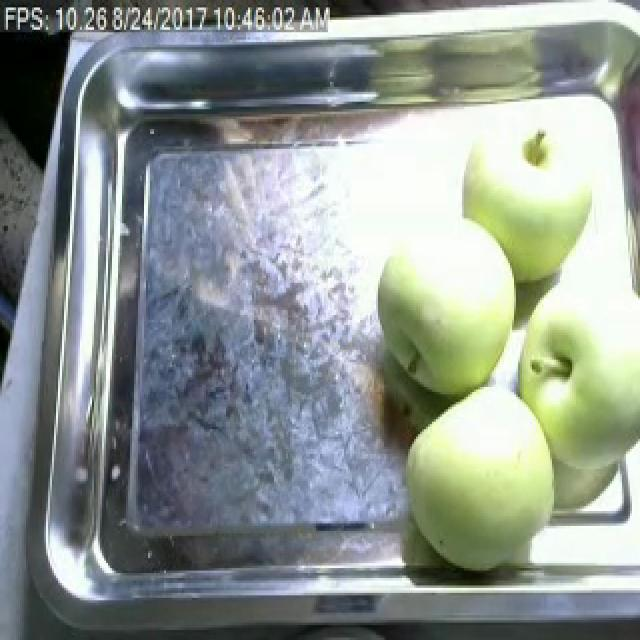50-_ripeness: (402, 396, 556, 583), (377, 215, 513, 388), (462, 112, 598, 274), (525, 278, 640, 465)
